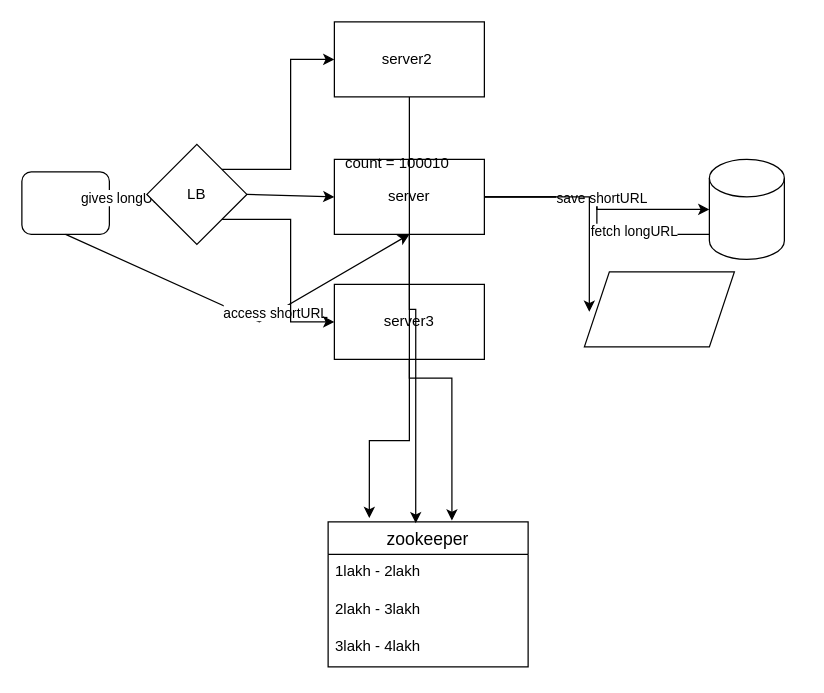
This 824x693 diagram has some shape labels left out. Each missing label, with the centre of its shape:
"cache" goes at (x=658, y=309).
"postgres/MySQL DB" goes at (x=746, y=208).
"user" goes at (x=65, y=202).
